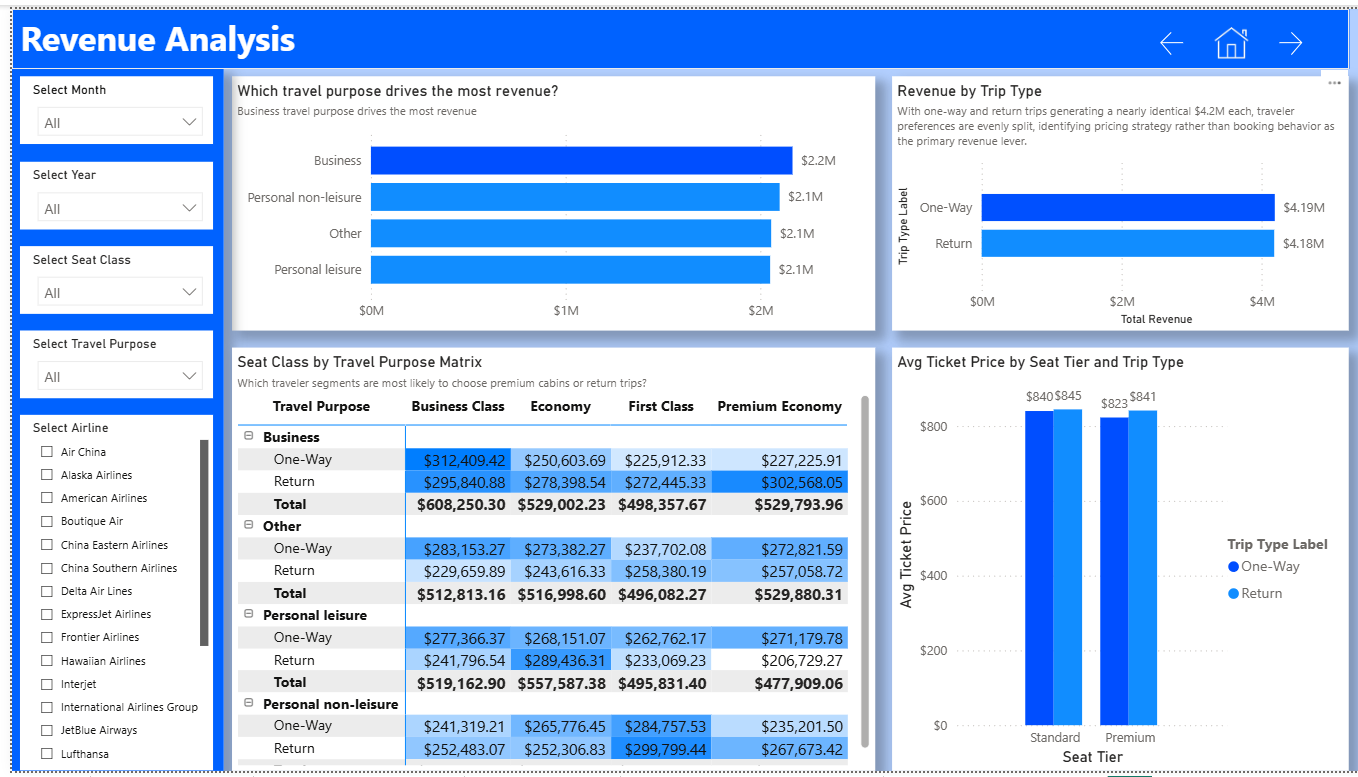

What the dashboard file says about the page in this screenshot:
{"tool":"powerbi","page":{"name":"Customer & Traveler Segmentation","canvas":[1280,720],"ordinal":4},"visuals":[{"type":"clusteredBarChart","title":"Which travel purpose drives the most revenue?","fields":{"Y":["_Measures.Total Revenue"],"Category":["Flights.Travel Purpose"]},"box":[208,64,608,240],"z":0},{"type":"shape","box":[0,56,200,664],"z":1000},{"type":"image","box":[1120,16,64,32],"z":2000},{"type":"clusteredBarChart","title":"Revenue by Trip Type","fields":{"Y":["_Measures.Total Revenue"],"Category":["Flights.Trip Type Label"]},"box":[832,64,432,240],"z":3000},{"type":"textbox","box":[0,0,1264,56],"z":4000},{"type":"slicer","title":"Select Month","fields":{"Values":["Date.Month Name"]},"box":[8,64,182.8,64],"z":5000},{"type":"pivotTable","title":"Seat Class by Travel Purpose Matrix","fields":{"Values":["_Measures.Total Revenue"],"Columns":["Flights.Seat class"],"Rows":["Flights.Travel Purpose","Flights.Trip Type Label"]},"box":[208,320,608,400],"z":7000},{"type":"slicer","title":"Select Year","fields":{"Values":["Date.Year"]},"box":[8,144,182.8,64],"z":8000},{"type":"clusteredColumnChart","title":"Avg Ticket Price by Seat Tier and Trip Type","fields":{"Category":["Flights.Seat Tier"],"Y":["_Measures.Avg Ticket Price"],"Series":["Flights.Trip Type Label"]},"box":[832,320,432,400],"z":9000},{"type":"slicer","title":"Select Seat Class","fields":{"Values":["Flights.Seat class"]},"box":[8,224,182.8,64],"z":10000},{"type":"slicer","title":"Select Travel Purpose","fields":{"Values":["Flights.Travel Purpose"]},"box":[8,304,182.8,64],"z":11000},{"type":"slicer","title":"Select Airline","fields":{"Values":["Flights.Airlines"]},"box":[8,384,182.8,336],"z":12000},{"type":"actionButton","box":[1072,16,48,32],"z":13000},{"type":"image","box":[1120,16,64,32],"z":14000},{"type":"actionButton","box":[1184,16,48,32],"z":15000}]}

Visuals, with their boxes in screenshot pixels (x1, y1, x2, y2), scaled from the page's 1280x720 canvas onto the 1358x777 screenshot:
"Which travel purpose drives the most revenue?" clusteredBarChart: 221,69,866,328
shape: 0,60,212,776
image: 1188,17,1256,52
"Revenue by Trip Type" clusteredBarChart: 883,69,1341,328
textbox: 0,0,1341,60
"Select Month" slicer: 8,69,202,138
"Seat Class by Travel Purpose Matrix" pivotTable: 221,345,866,776
"Select Year" slicer: 8,155,202,224
"Avg Ticket Price by Seat Tier and Trip Type" clusteredColumnChart: 883,345,1341,776
"Select Seat Class" slicer: 8,242,202,311
"Select Travel Purpose" slicer: 8,328,202,397
"Select Airline" slicer: 8,414,202,776
actionButton: 1137,17,1188,52
image: 1188,17,1256,52
actionButton: 1256,17,1307,52
